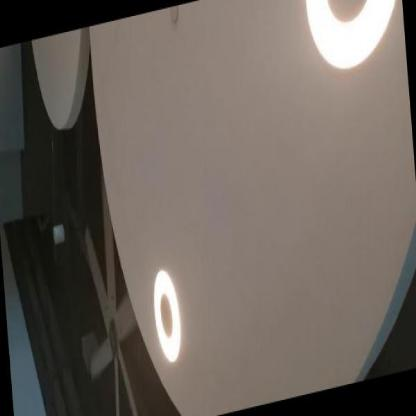light_on: (289, 0, 406, 89), (140, 243, 190, 383)
